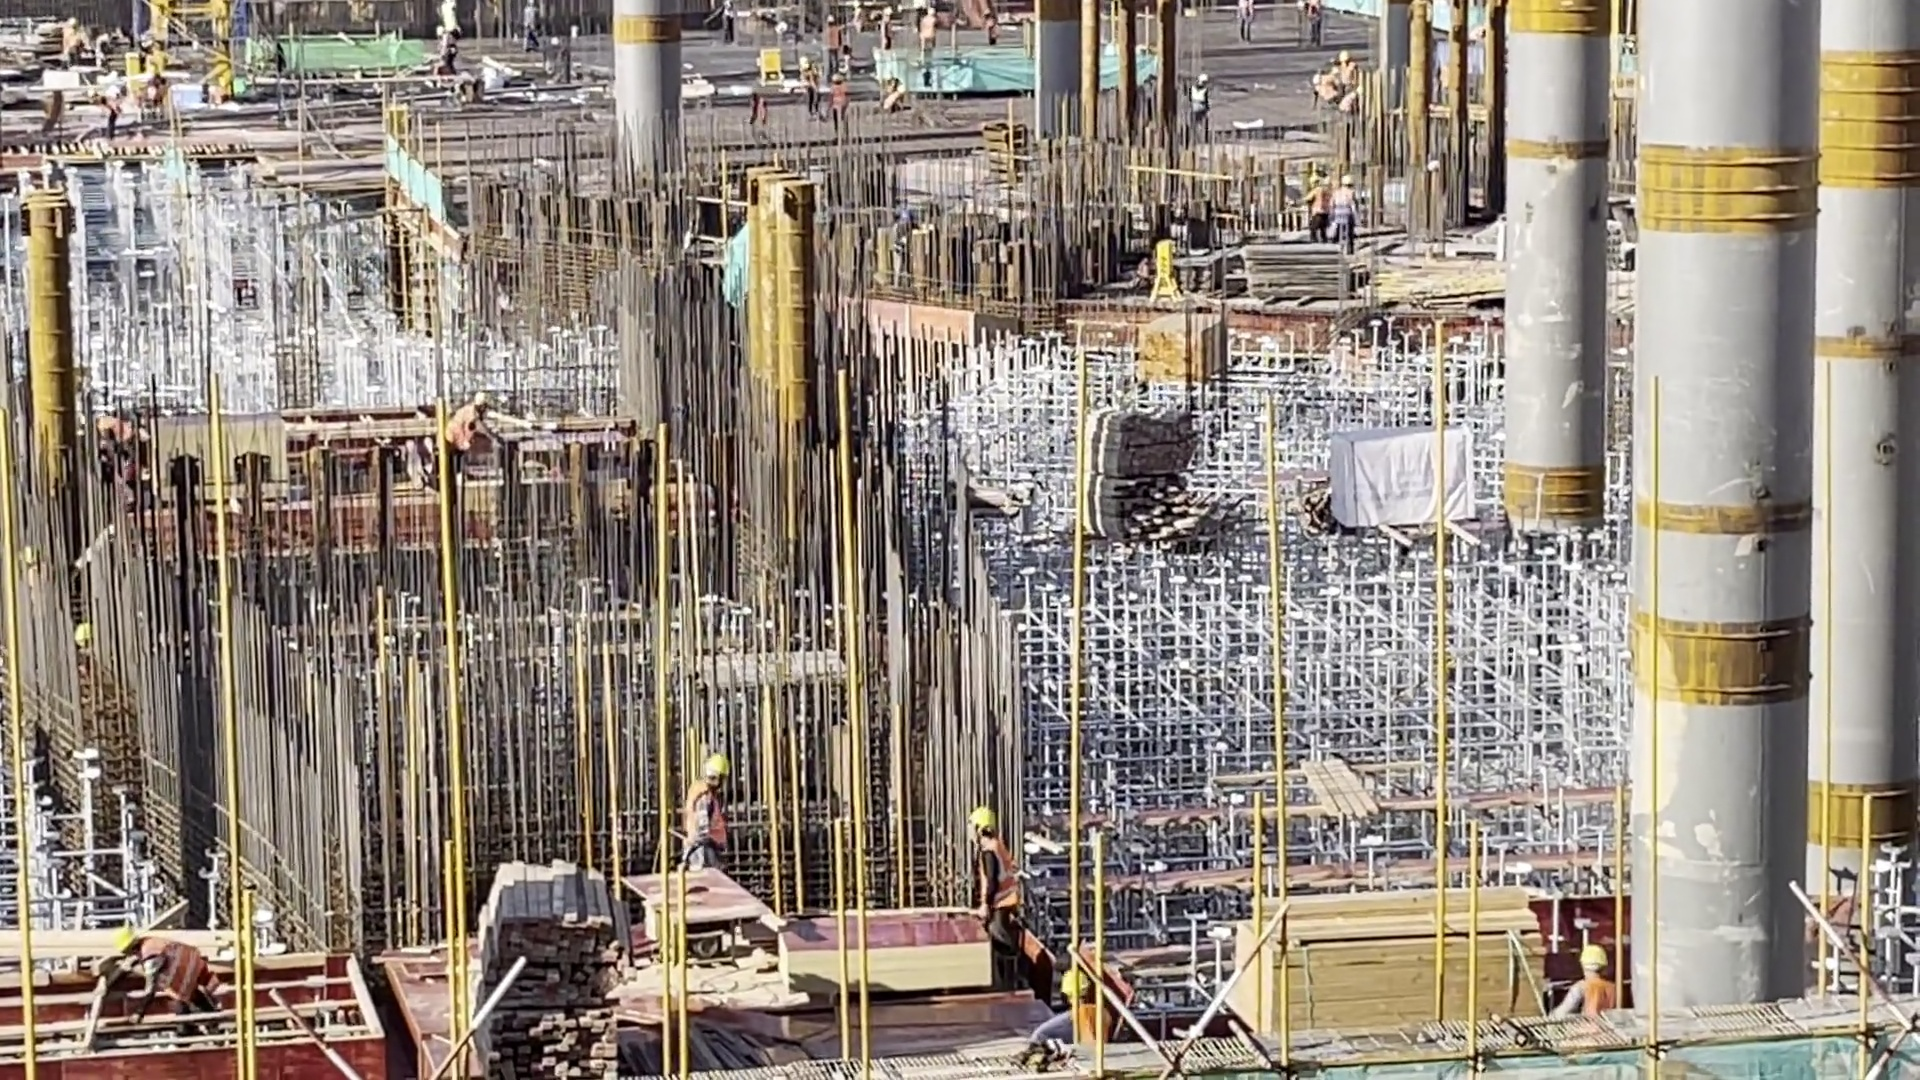board: (733, 884, 998, 991), (1243, 224, 1354, 306)
cutter: (641, 852, 756, 952)
ebox: (1149, 239, 1194, 286), (119, 51, 166, 72), (766, 37, 783, 76)
helmet: (954, 810, 1002, 840), (702, 752, 734, 785), (1569, 945, 1610, 968), (1064, 971, 1095, 1000), (124, 925, 134, 961), (477, 389, 491, 415), (96, 414, 111, 438), (1306, 176, 1328, 187), (912, 1, 932, 14), (67, 14, 80, 31), (1343, 174, 1356, 190), (1312, 73, 1323, 91), (1195, 71, 1211, 82), (1340, 50, 1350, 64), (833, 72, 847, 83), (826, 13, 835, 27), (984, 9, 994, 20), (89, 88, 100, 98), (797, 58, 810, 65), (437, 27, 445, 37), (882, 10, 893, 19), (1299, 1, 1305, 12)
person: (106, 907, 236, 1043), (1010, 961, 1130, 1069), (960, 809, 1033, 973), (426, 388, 493, 490), (684, 743, 735, 863), (1554, 939, 1621, 1016), (97, 406, 149, 503), (1334, 178, 1363, 270), (1333, 45, 1373, 110), (1313, 61, 1339, 140), (90, 86, 129, 135), (1299, 175, 1328, 241), (58, 18, 85, 73), (831, 67, 853, 131), (1194, 70, 1213, 135), (878, 9, 906, 55), (826, 4, 842, 76), (1234, 1, 1263, 40), (805, 54, 821, 116), (447, 1, 461, 70), (976, 16, 1008, 45), (521, 1, 540, 48), (849, 1, 872, 34), (1316, 3, 1329, 51), (923, 3, 934, 48), (1303, 1, 1313, 43)
vest: (149, 937, 213, 1013), (983, 843, 1024, 916), (1568, 976, 1623, 1027), (1065, 1013, 1112, 1062), (690, 795, 722, 855), (441, 411, 480, 453), (111, 423, 148, 462), (1338, 188, 1358, 226), (825, 27, 841, 54), (1313, 188, 1327, 221), (106, 92, 123, 118), (527, 11, 544, 33), (809, 70, 820, 102), (835, 94, 848, 120), (922, 18, 932, 46), (446, 39, 460, 57), (69, 28, 78, 54), (853, 11, 871, 24), (987, 23, 1000, 41), (1190, 90, 1204, 106), (1241, 1, 1249, 24), (881, 22, 890, 41)
wood: (1269, 881, 1539, 1027), (471, 882, 631, 1057)
